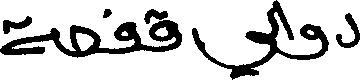X: (192, 5, 269, 79), (0, 11, 52, 59), (151, 4, 180, 56), (301, 19, 326, 64), (72, 20, 97, 62), (114, 17, 137, 58), (338, 8, 359, 52), (279, 0, 291, 63), (271, 0, 277, 79)
